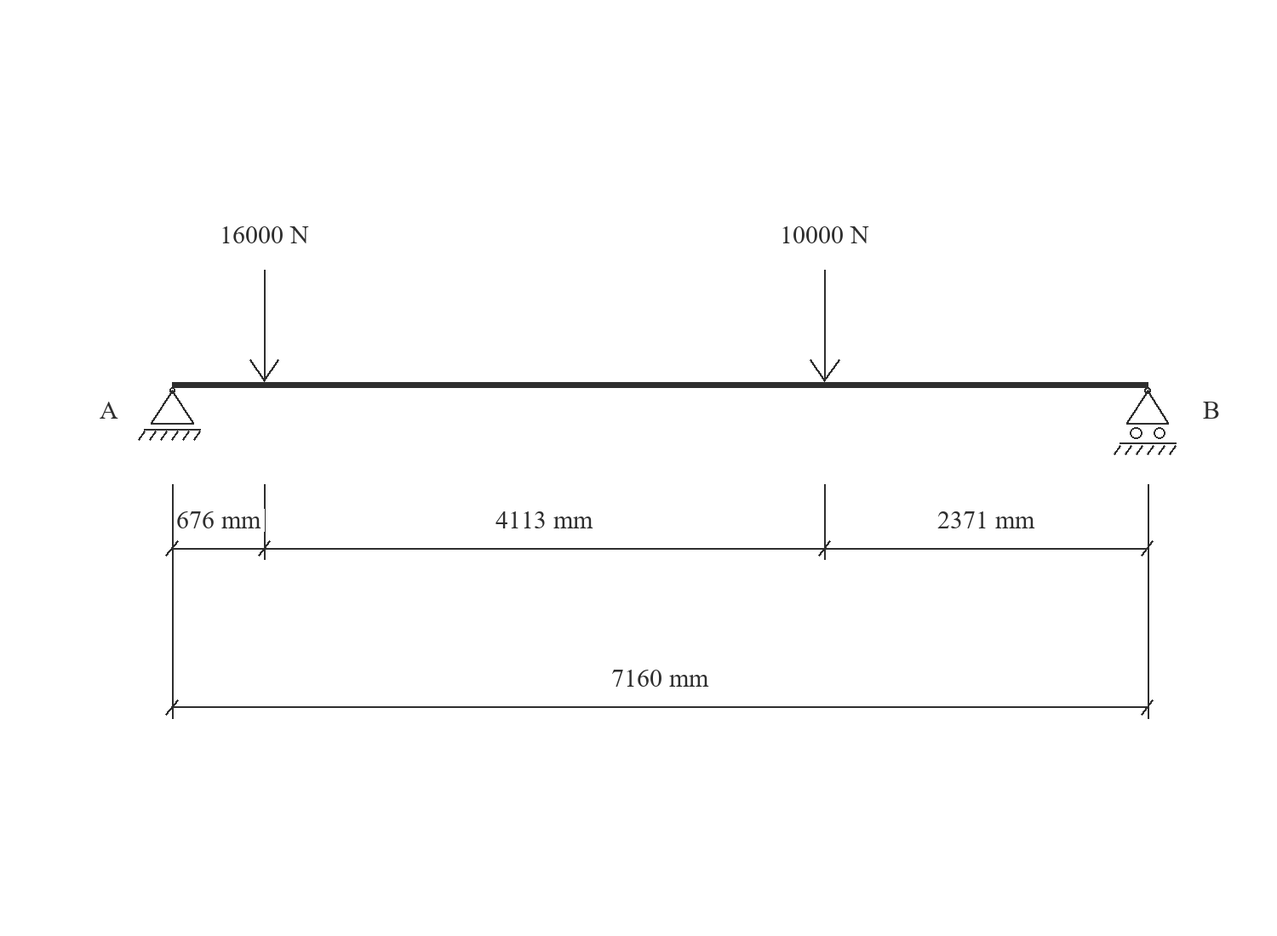pin_support: (138, 387, 201, 441)
point_load: (249, 270, 279, 382), (810, 270, 840, 382)
roller_support: (1114, 387, 1177, 455)
